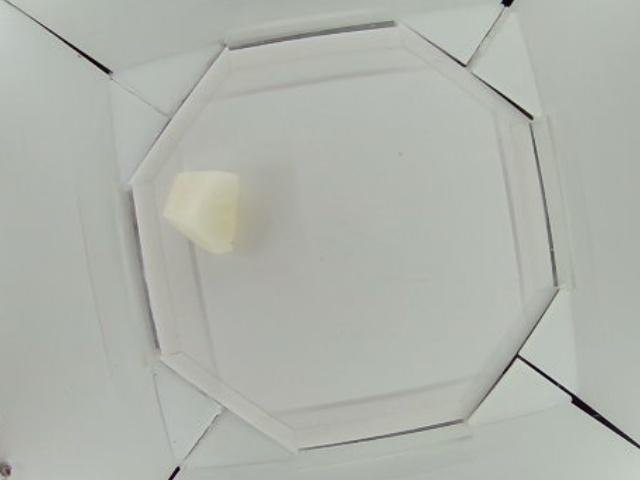Mooli: (162, 171, 241, 255)
